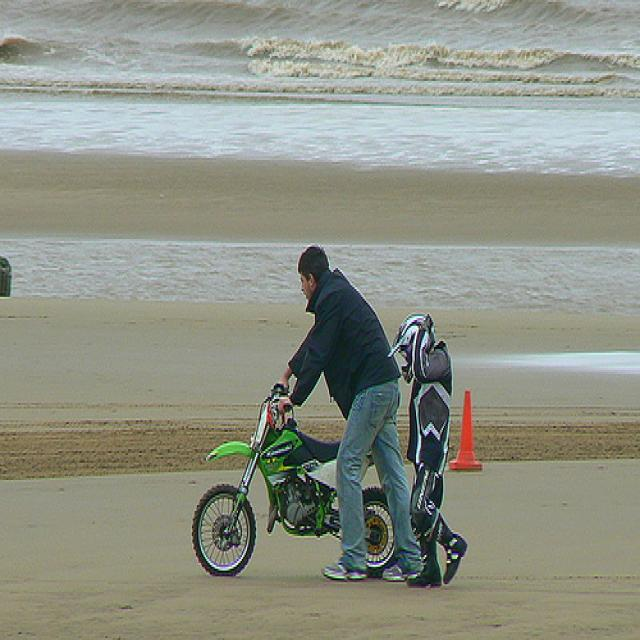motor: (191, 384, 395, 577)
